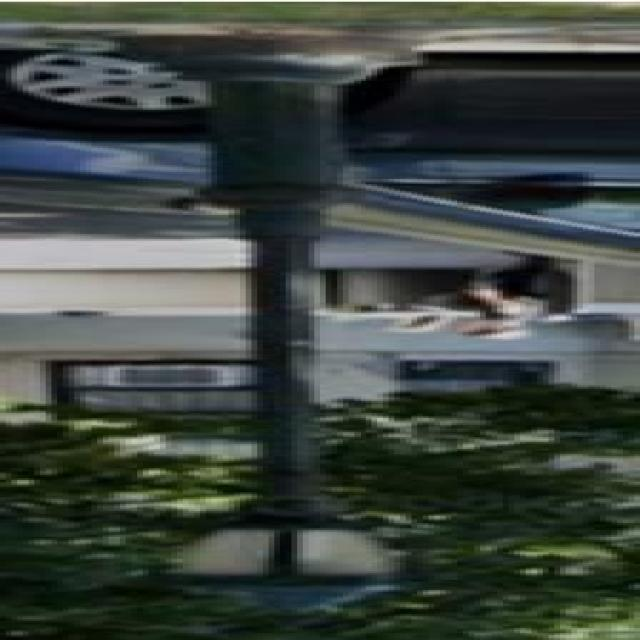off: (125, 468, 428, 640)
